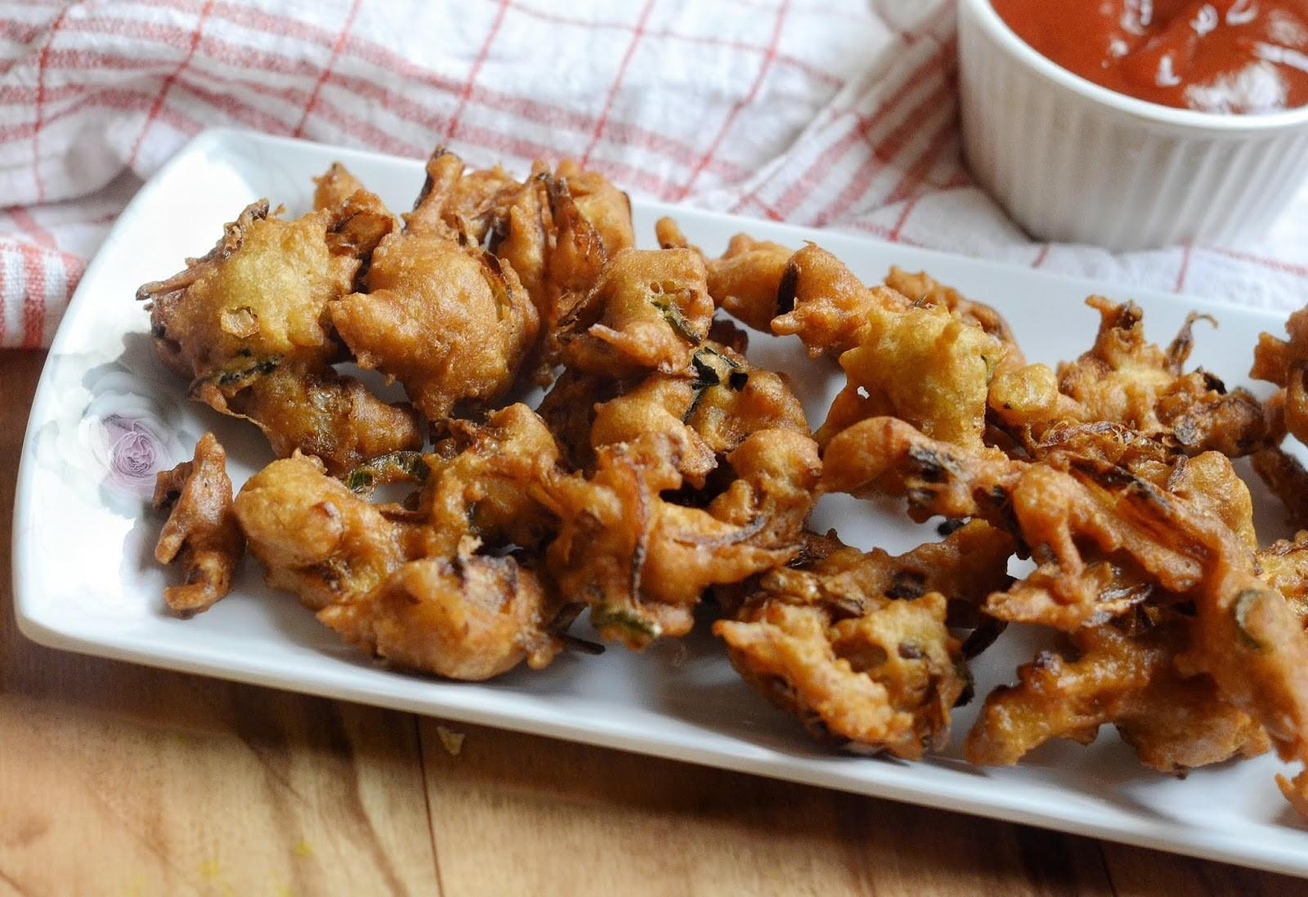OnionPakoda: (150, 143, 1308, 827)
